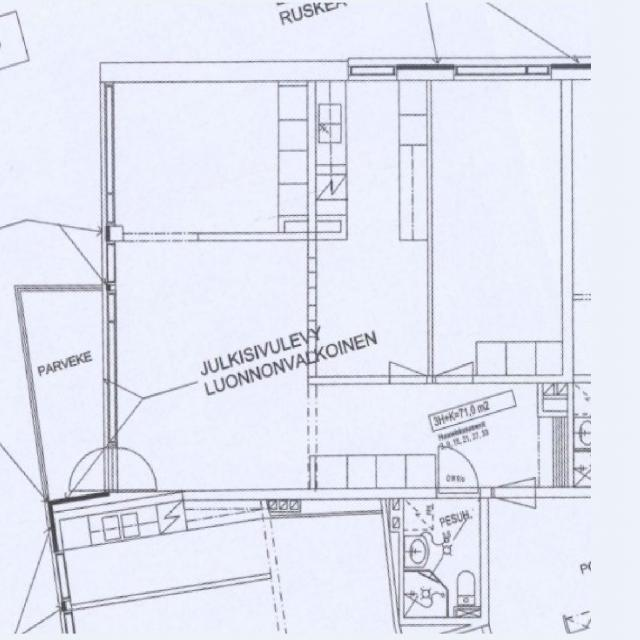door: (492, 443, 534, 500), (492, 489, 534, 545), (439, 447, 477, 500), (66, 447, 116, 487), (103, 447, 152, 487), (437, 337, 472, 383), (389, 338, 423, 383)
